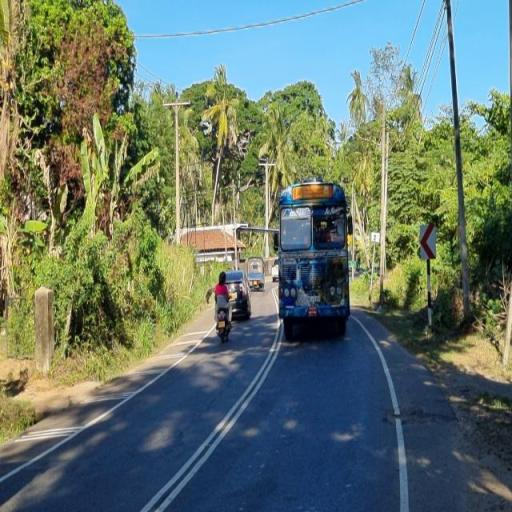double_white_line: (140, 323, 280, 510)
